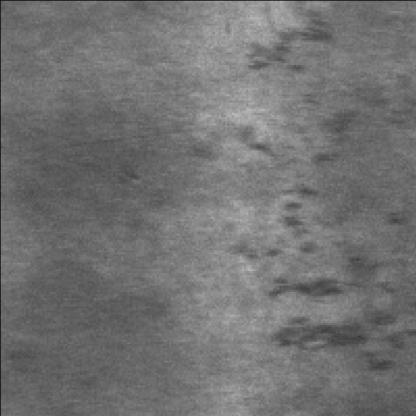rolled-in_scale: (241, 137, 408, 368), (242, 0, 326, 71)
